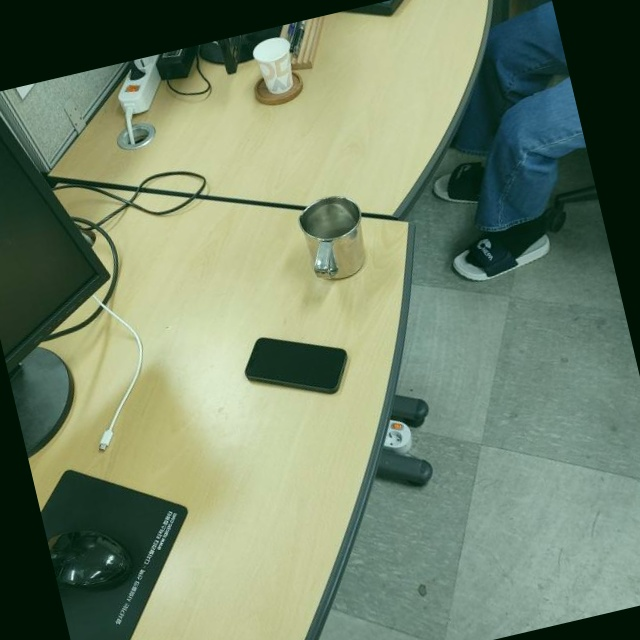cup: (293, 187, 375, 288)
phone: (239, 319, 355, 413)
